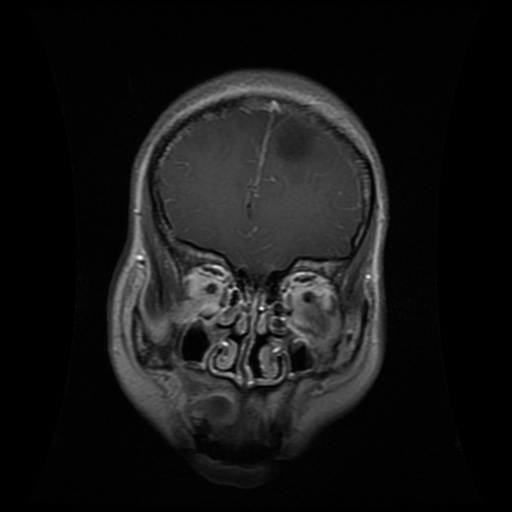glioma: (271, 111, 318, 165)
